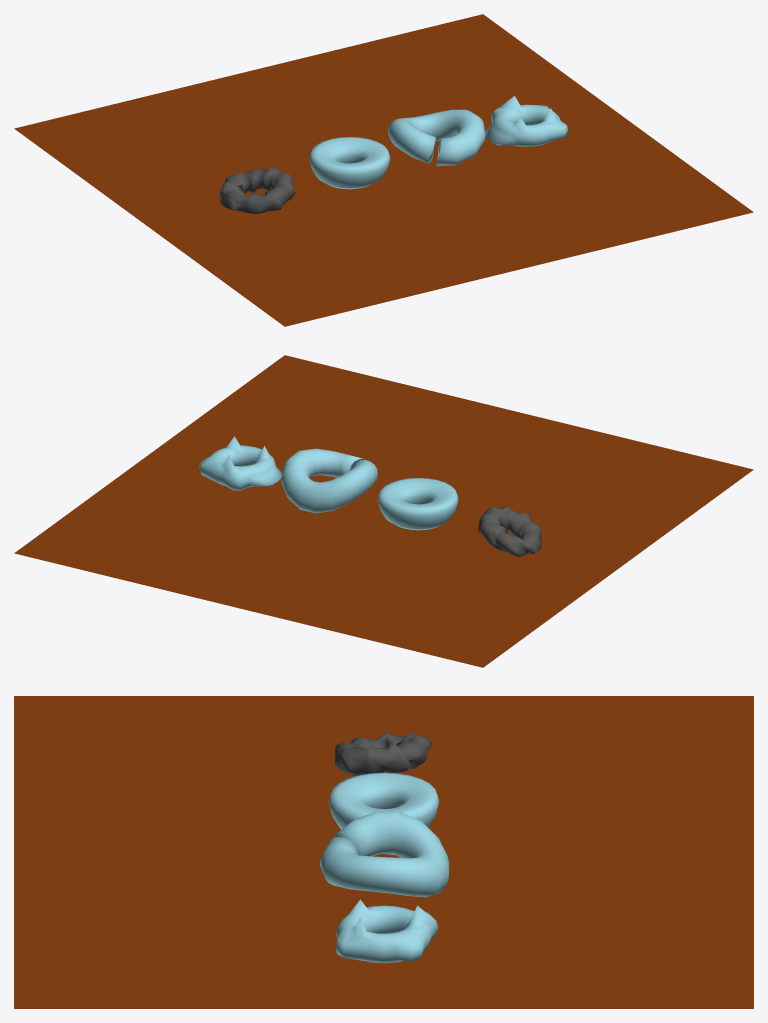
File: simple_019_BlendShapes_00.dae
The picture shows the model from 3 angles, top to bottom: view 1: azimuth 30°, elevation 25°; view 2: azimuth 150°, elevation 25°; view 3: azimuth 270°, elevation 25°; orthographic projection. The views are drawn at different scales.
Parts seen in each view (by area): view 1: pPlane1, Target2, Target1, Target3, BaseObject; view 2: pPlane1, Target2, Target1, Target3, BaseObject; view 3: pPlane1, Target2, Target3, Target1, BaseObject.
Part boxes in pixels (x1,y1,x2,y2): pPlane1: (14, 14, 753, 326); Target2: (388, 109, 485, 165); Target1: (309, 137, 390, 189); Target3: (485, 96, 568, 146); BaseObject: (219, 167, 296, 213); pPlane1: (14, 355, 753, 667); Target2: (281, 448, 377, 513); Target1: (377, 478, 458, 530); Target3: (199, 436, 282, 490); BaseObject: (478, 505, 542, 556); pPlane1: (14, 696, 753, 1008); Target2: (320, 811, 449, 897); Target3: (335, 899, 438, 963); Target1: (328, 772, 439, 829); BaseObject: (334, 732, 431, 775).
Bounding box in the file's own units: 200 × 200 × 19.67.
